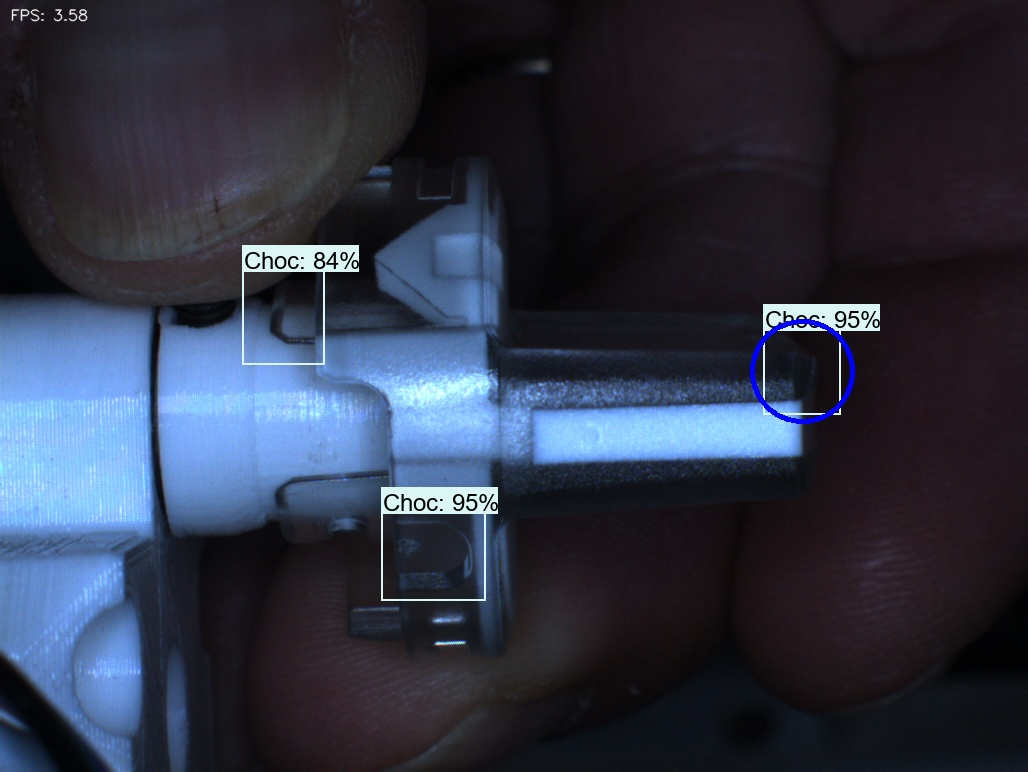DentOk: (336, 216, 424, 313)
